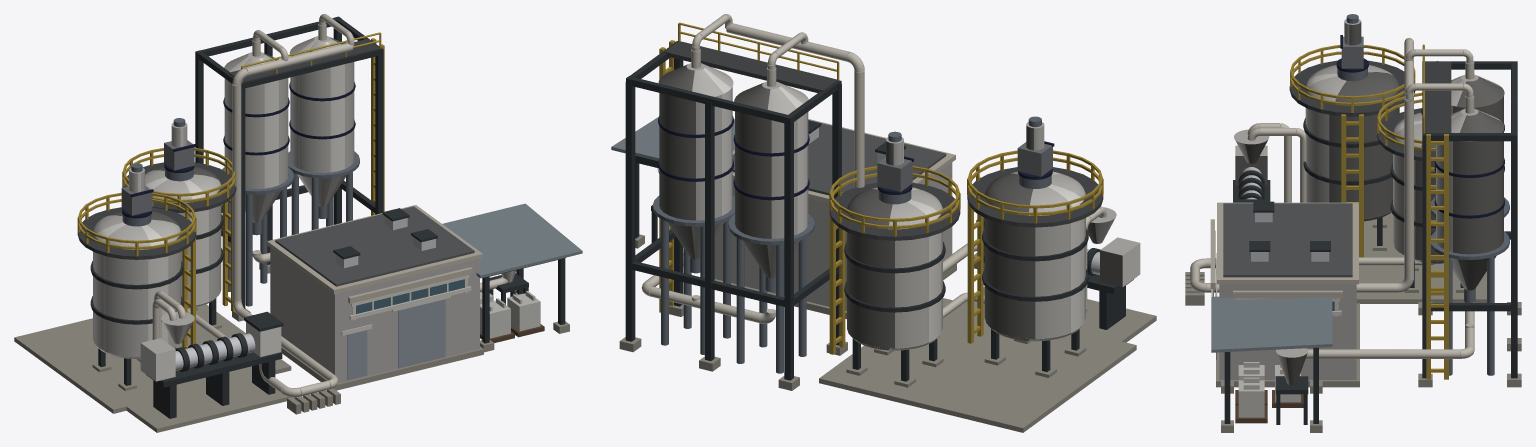
Rendered from poly_plant_lvl2.glb.
3 views of the same model, side by side, from view 1: azimuth 30°, elevation 25°; view 2: azimuth 150°, elevation 25°; view 3: azimuth 270°, elevation 25° (orthographic). The views are drawn at different scales.
Parts seen in each view (by area): view 1: poly_plant_v2, poly_plant_v2_Glass; view 2: poly_plant_v2; view 3: poly_plant_v2.
Part boxes in pixels (x1,y1,x2,y2): poly_plant_v2: (14,14,582,432); poly_plant_v2_Glass: (356,279,464,314); poly_plant_v2: (611,14,1156,432); poly_plant_v2: (1185,14,1521,432).
Bounding box in the file's own units: 1 × 0.5826 × 0.6303.
